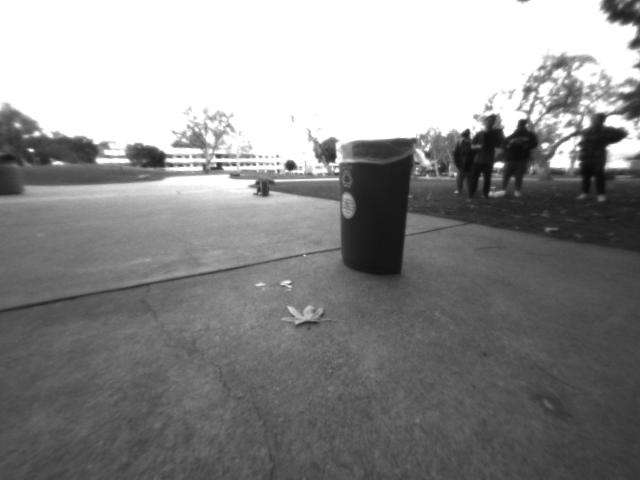trashcan_open: (335, 134, 410, 279)
